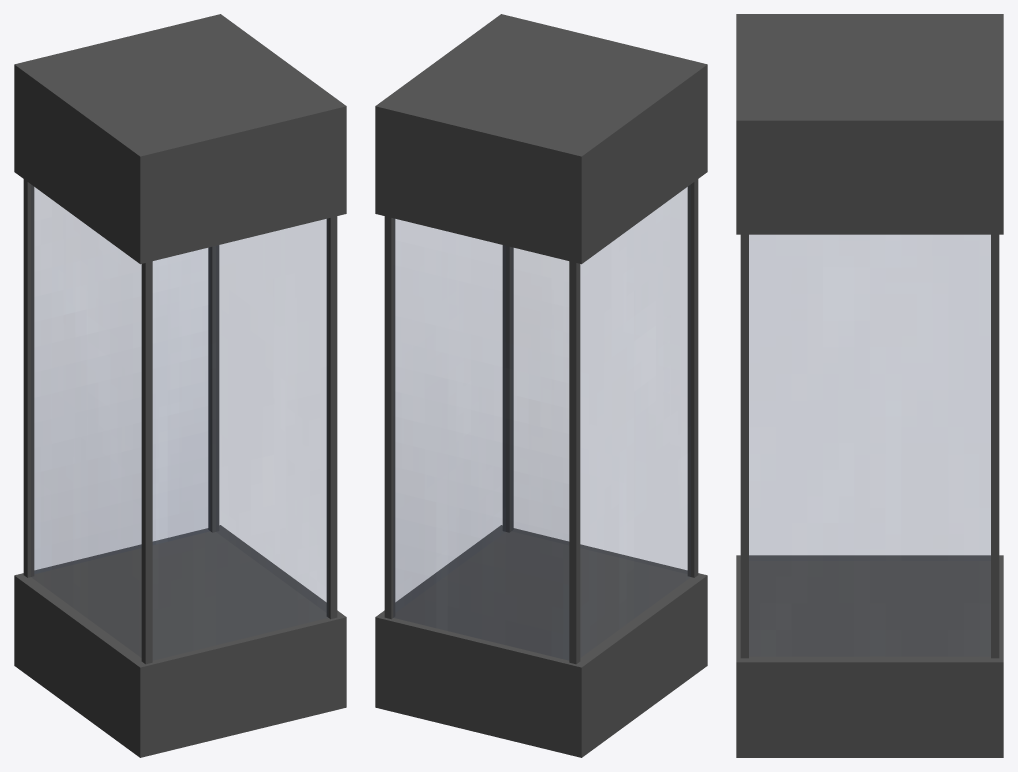
File: FishTank2.fbx
3 views of the same model, side by side, from view 1: azimuth 30°, elevation 25°; view 2: azimuth 150°, elevation 25°; view 3: azimuth 270°, elevation 25° (orthographic). The views are drawn at different scales.
Parts seen in each view (by area): view 1: FishTank2; view 2: FishTank2; view 3: FishTank2.
Part boxes in pixels (bbox=[...]): FishTank2: bbox=[14, 14, 346, 757]; FishTank2: bbox=[375, 14, 707, 757]; FishTank2: bbox=[736, 14, 1003, 757].
Size of the model in its own units: 0.72 by 2 by 0.761.
2 materials, 1 textured.
